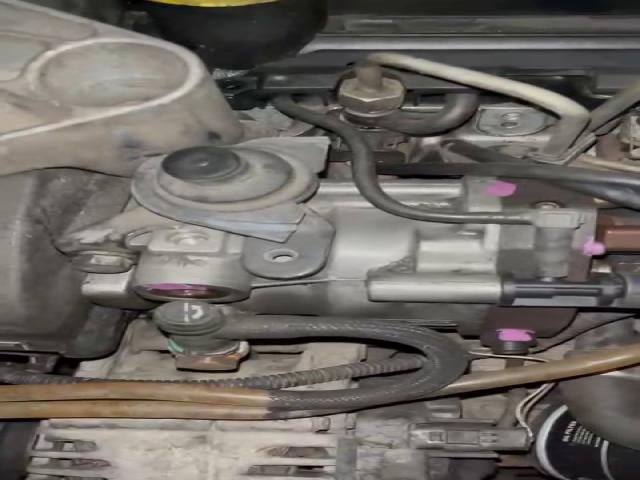alternator: (26, 413, 349, 480)
high_pressure_pump: (62, 177, 638, 353)
